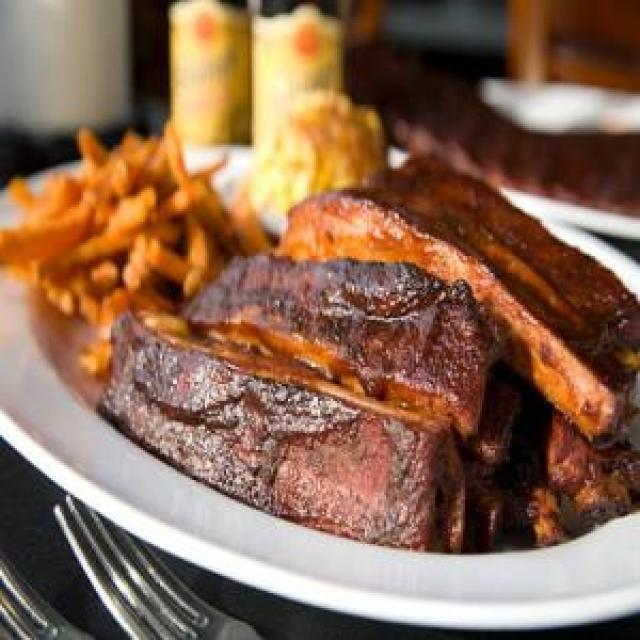French Fries: (0, 110, 245, 373)
